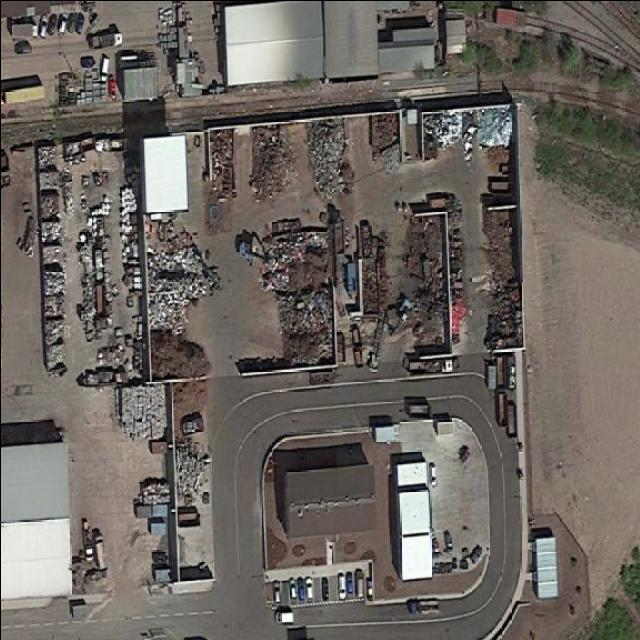dump_site: (147, 247, 215, 331), (178, 440, 214, 504), (478, 109, 512, 147), (424, 114, 462, 146)
